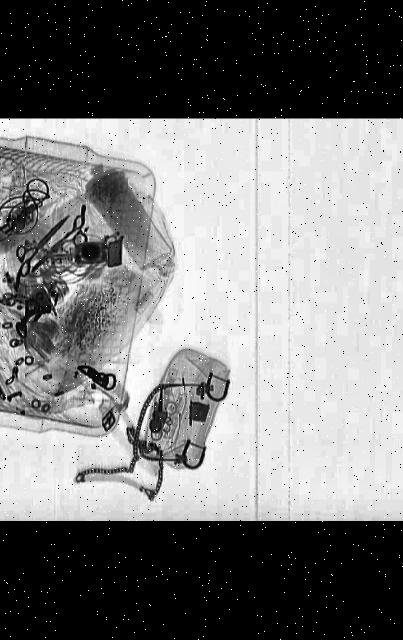Scissors: (15, 214, 104, 280), (0, 210, 83, 277)
